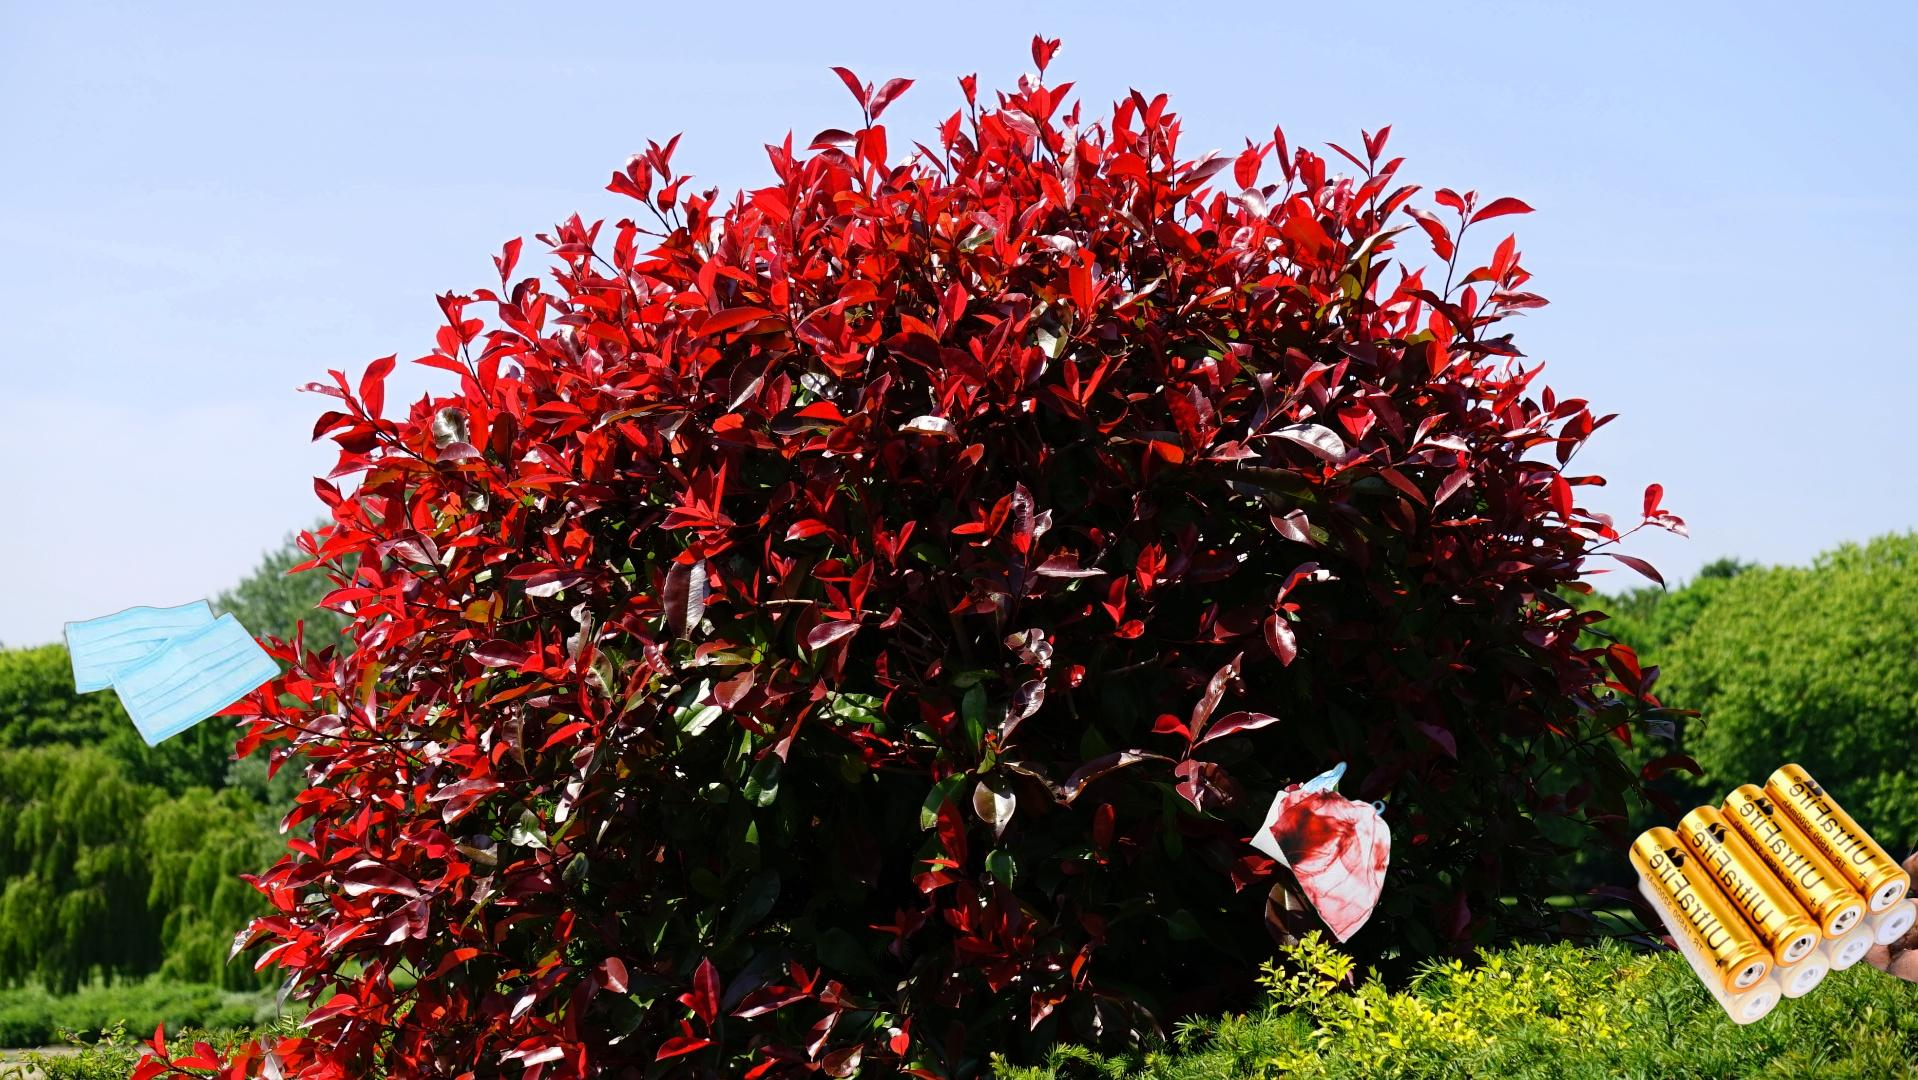battery: (1627, 761, 1918, 1028)
biological: (1854, 833, 1918, 998)
plastic-bag: (1246, 758, 1392, 945)
trash: (62, 596, 286, 751)
